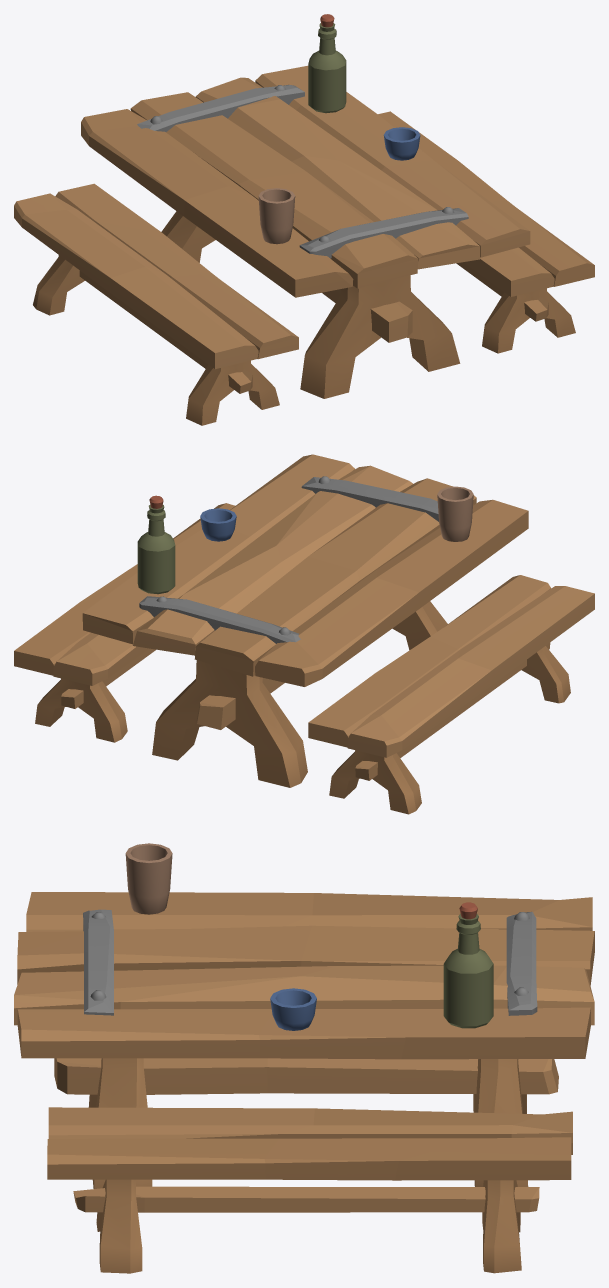
File: Market_Table_C.fbx
3 renders of one model, top to bottom at view 1: azimuth 30°, elevation 25°; view 2: azimuth 150°, elevation 25°; view 3: azimuth 270°, elevation 25°, orthographic. The views are drawn at different scales.
Visible parts, largest first — view 1: Market_Table_C; view 2: Market_Table_C; view 3: Market_Table_C.
Part boxes in pixels (left/top/right/bottom): Market_Table_C: left=14, top=14, right=594, bottom=425; Market_Table_C: left=14, top=454, right=594, bottom=814; Market_Table_C: left=14, top=843, right=594, bottom=1273.
Size of the model in its own units: 214 by 126 by 220.
